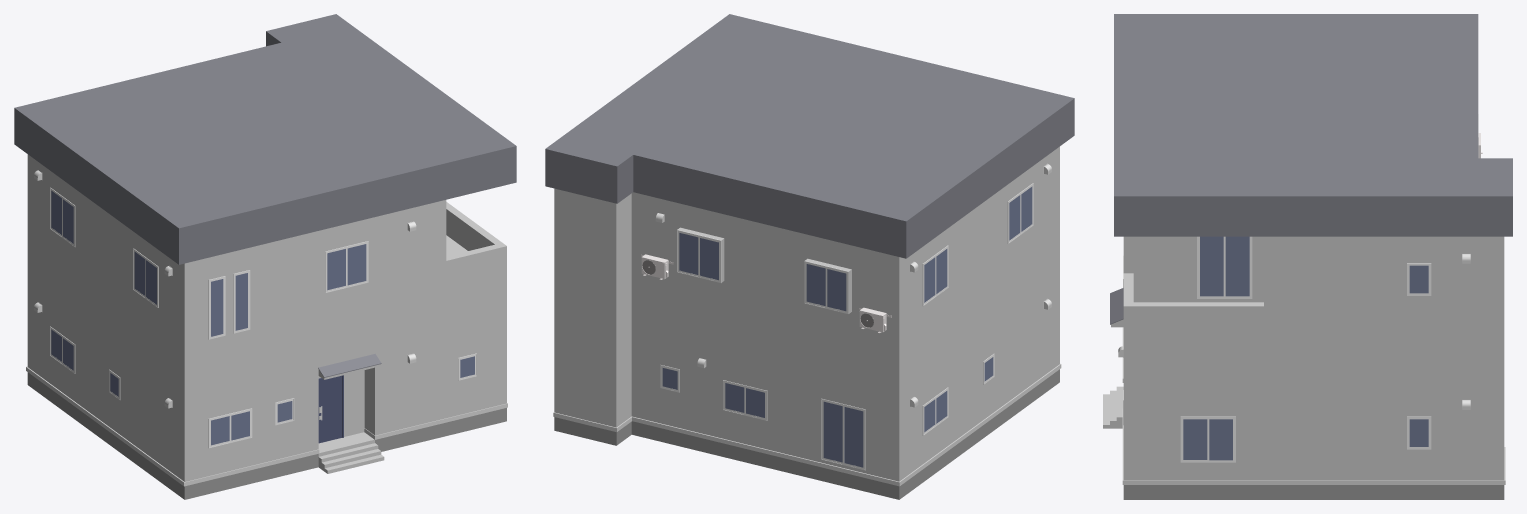
The model's file is MobHouse45.fbx.
The picture shows the model from 3 angles, left to right: view 1: azimuth 30°, elevation 25°; view 2: azimuth 150°, elevation 25°; view 3: azimuth 270°, elevation 25°; orthographic projection. The views are drawn at different scales.
Visible parts, largest first — view 1: Flat_half_house02.004; view 2: Flat_half_house02.004; view 3: Flat_half_house02.004.
Boxes of the visible parts, left/top/right/bottom form: Flat_half_house02.004: left=14, top=14, right=516, bottom=499; Flat_half_house02.004: left=545, top=14, right=1074, bottom=499; Flat_half_house02.004: left=1103, top=14, right=1512, bottom=499.
Bounding box in the file's own units: 10.13 × 7.95 × 9.63.
